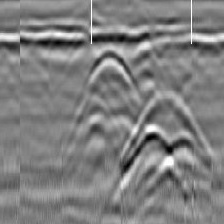Utility: (123, 89, 217, 200), (84, 44, 140, 113)
